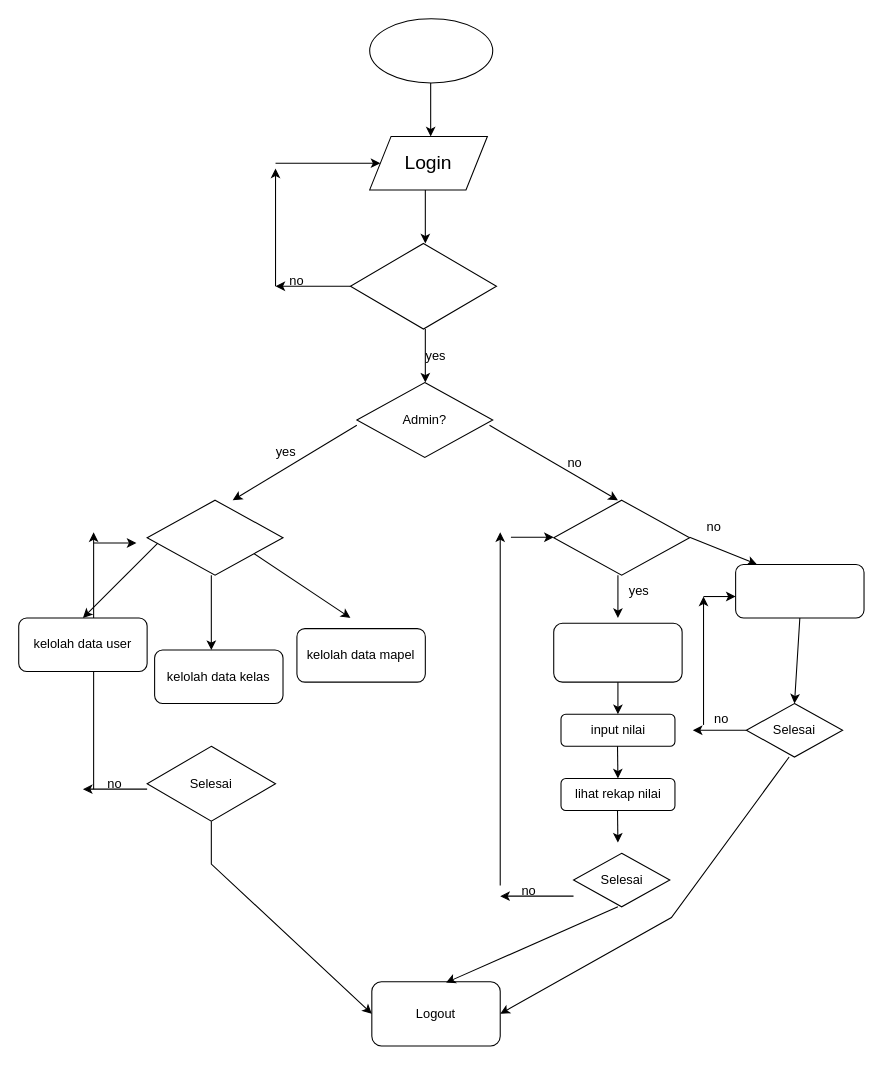
Image size: 883x1065. Some labels were removed from this diagram. Each missing label, with the centre of its shape:
guru: the point at 621,537
Nilai siswa: the point at 799,590
Pilih kelas dan mapel: the point at 617,652
pilih menu: the point at 214,537
Start: the point at 431,50
Validasi Login?: the point at 422,285
